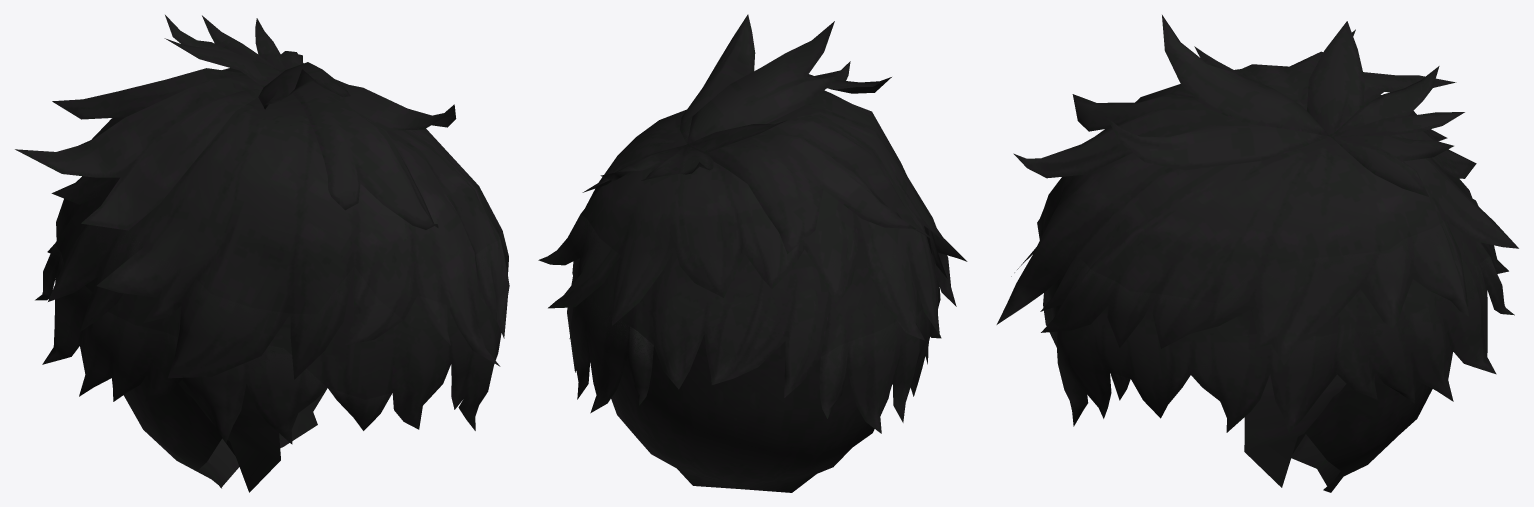
File: Ondulado_2.glb
The picture shows the model from 3 angles, left to right: view 1: azimuth 30°, elevation 25°; view 2: azimuth 150°, elevation 25°; view 3: azimuth 270°, elevation 25°; orthographic projection. The views are drawn at different scales.
Parts seen in each view (by area): view 1: HEAD-REST; view 2: HEAD-REST; view 3: HEAD-REST.
Part boxes in pixels (<box>): HEAD-REST: <box>15,15,509,492</box>; HEAD-REST: <box>538,14,967,492</box>; HEAD-REST: <box>996,15,1518,492</box>.
Size of the model in its own units: 0.0373 by 0.0395 by 0.0416.
1 material, 1 textured.
